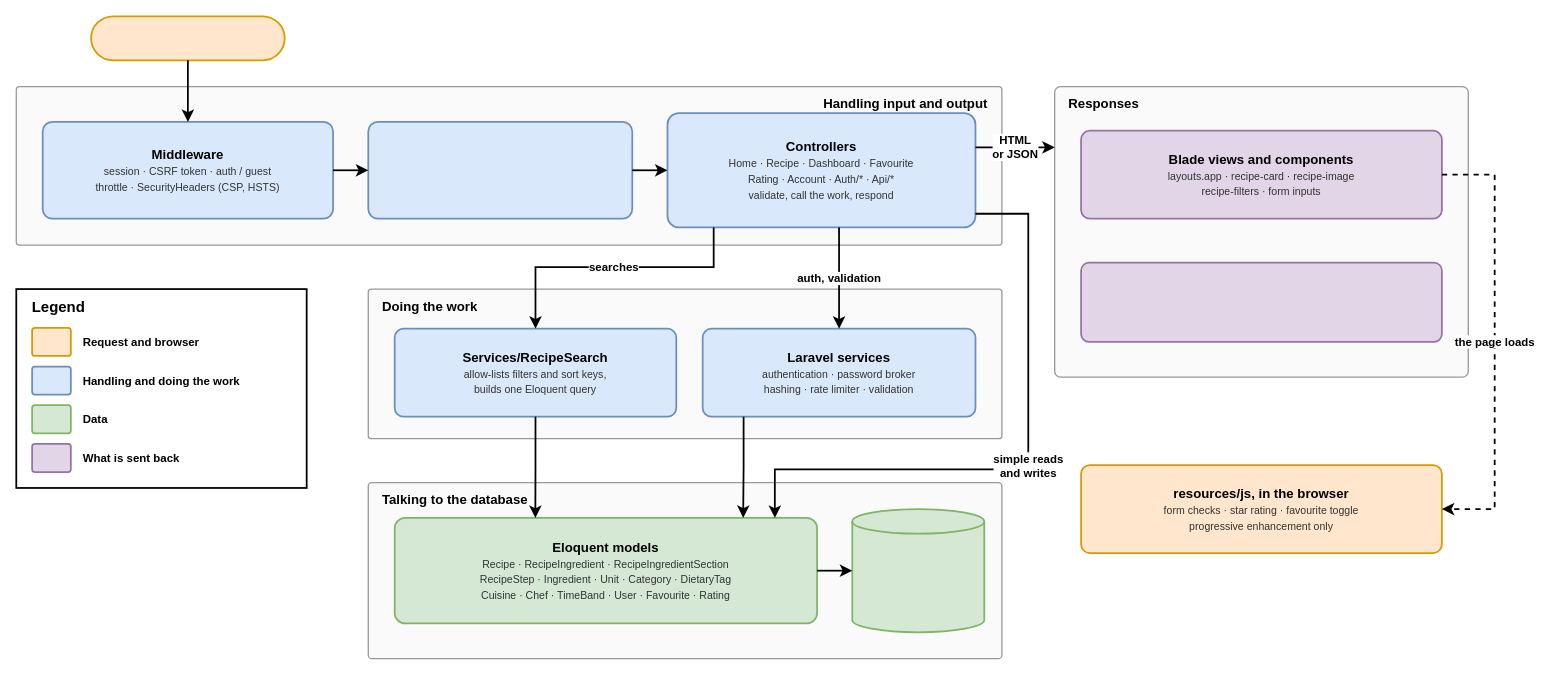
Some shapes in this 1550 by 674 pixel diagram are drawn without their labels. The shapes that lost their labels are listed below. From the top down, each one's centre as x and y in pixels, then its label:
At (187,38): "HTTP request".
At (500,170): "Routes routes/web.php — pages and forms routes/api.php — GET /api/recipes".
At (1261,301): "RecipeResource recipes as JSON for the API".
At (918,570): "MySQL / MariaDB".
